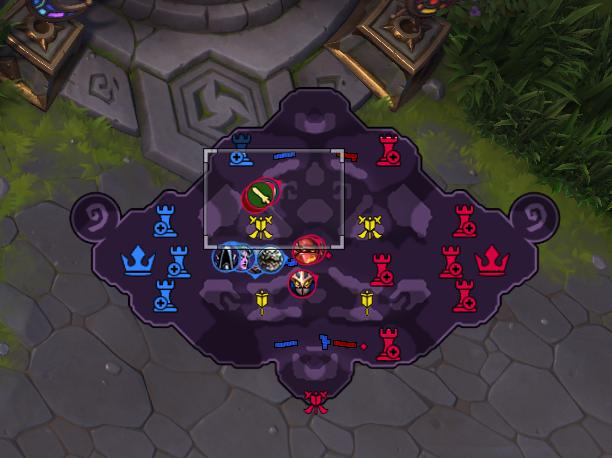blue nexus: (118, 243, 156, 276)
blue player: (255, 245, 285, 273), (212, 243, 236, 272), (236, 248, 250, 271)
blue tower: (228, 131, 254, 166), (152, 203, 178, 237), (152, 278, 178, 312), (166, 244, 191, 278), (228, 150, 253, 166), (156, 204, 174, 216)
red nexus: (473, 244, 509, 276)
red player: (241, 177, 279, 215), (291, 234, 326, 265), (287, 268, 315, 298)
red tower: (451, 203, 477, 237), (375, 327, 401, 361), (375, 133, 401, 166), (369, 252, 394, 286), (438, 244, 463, 278), (451, 278, 476, 312)
